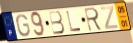9: (30, 11, 46, 38)
B: (48, 10, 66, 36)
G: (16, 14, 32, 38)
L: (65, 10, 82, 33)
R: (83, 6, 104, 33)
Z: (100, 5, 119, 30)
